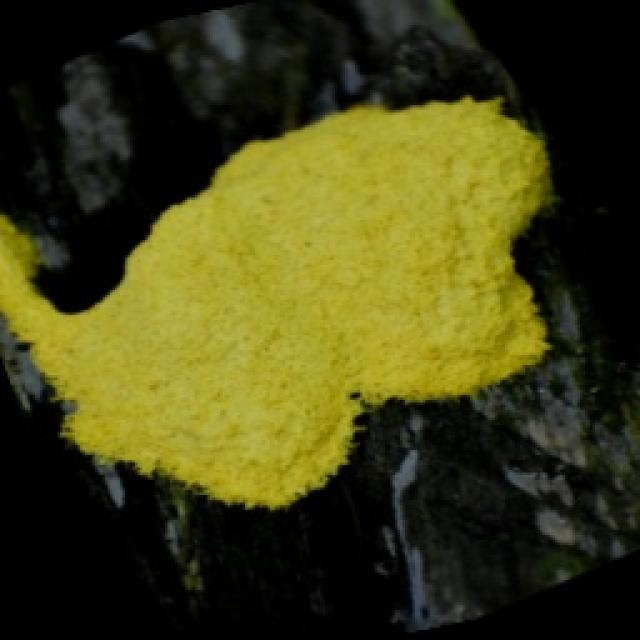Dog_vomit_slime_mold: (3, 98, 593, 532)
